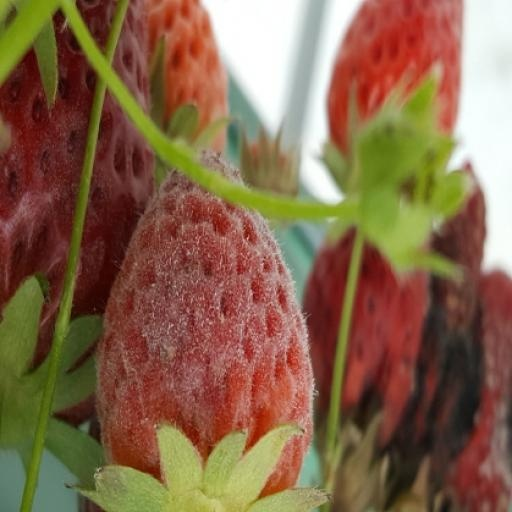Powdery Mildew Fruit: (91, 0, 315, 366), (0, 79, 156, 511)
